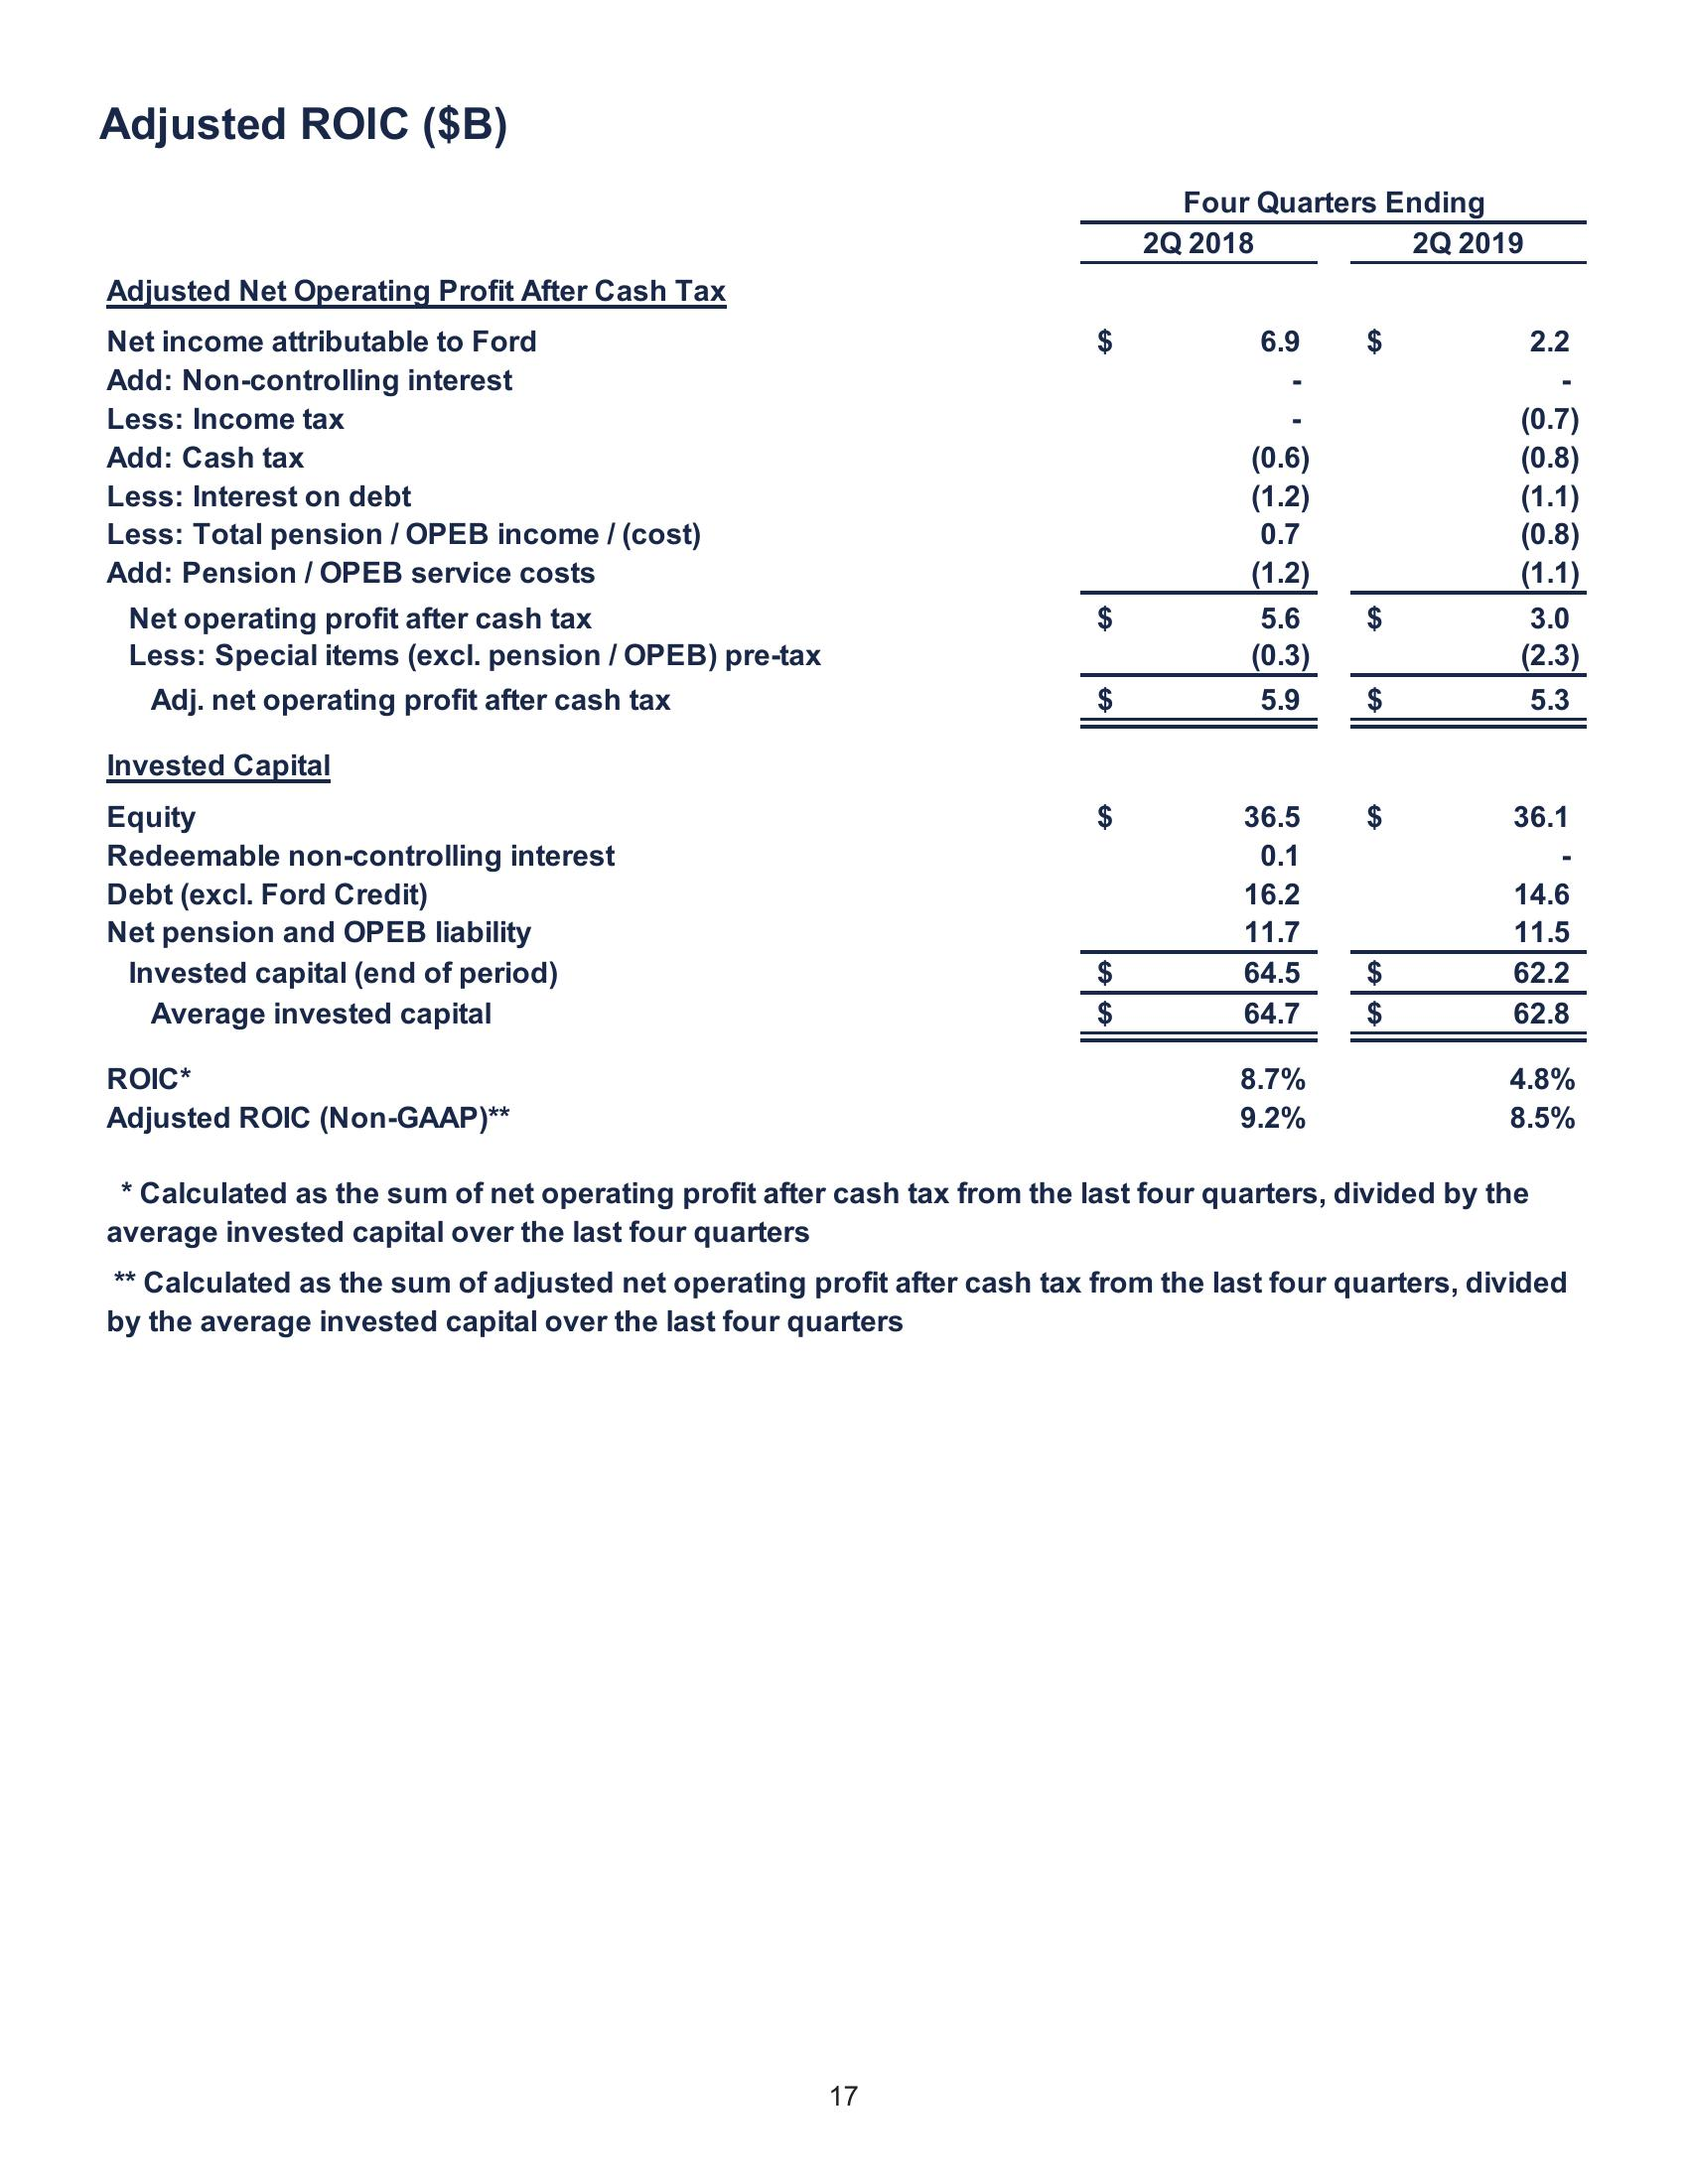table: (92, 179, 1590, 1136)
